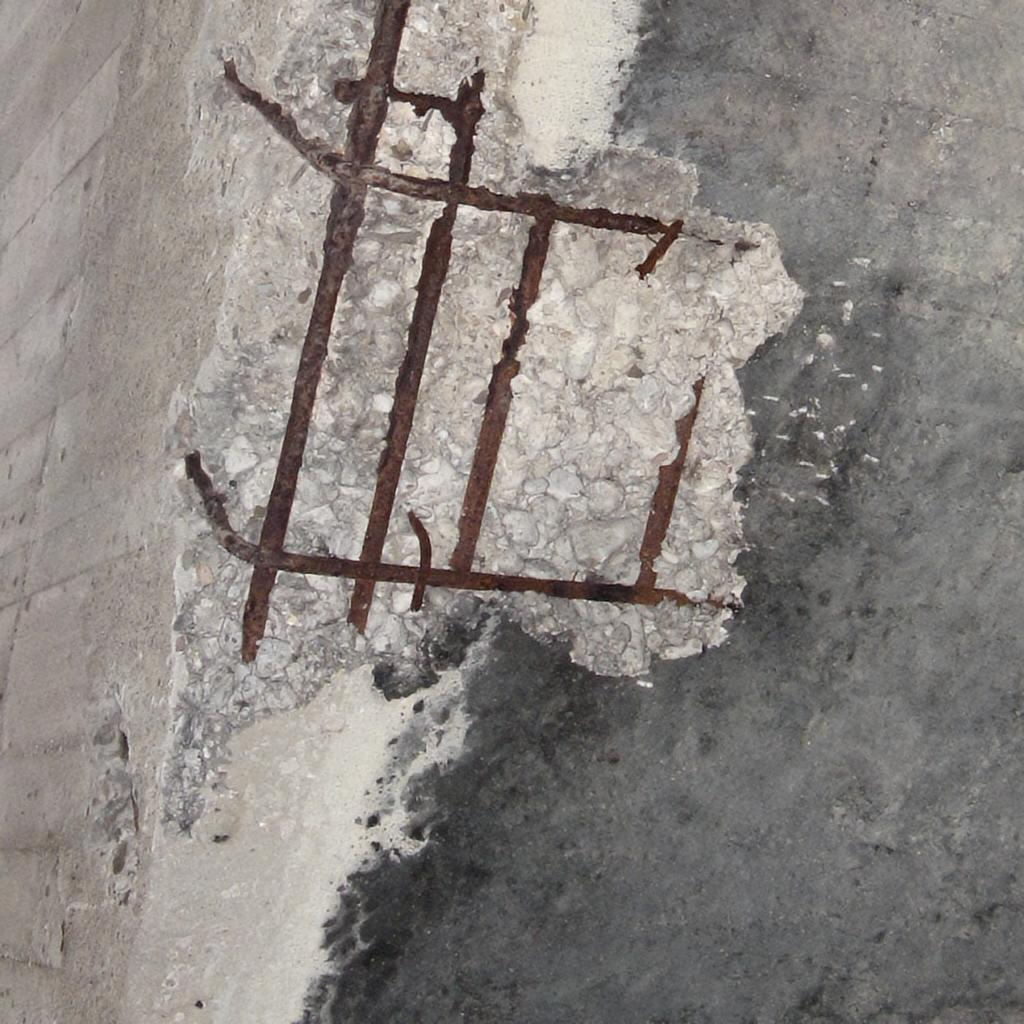exposed_rebar: (186, 0, 703, 661)
spalling: (166, 0, 802, 827)
